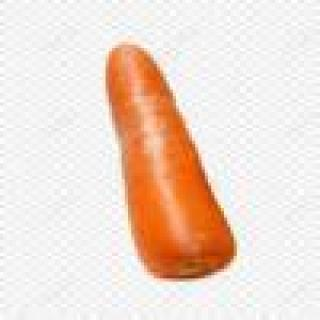Wortel: (94, 27, 257, 296)
